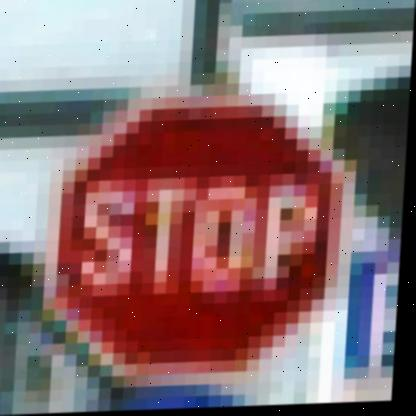Stop Sign: (39, 85, 361, 379)
